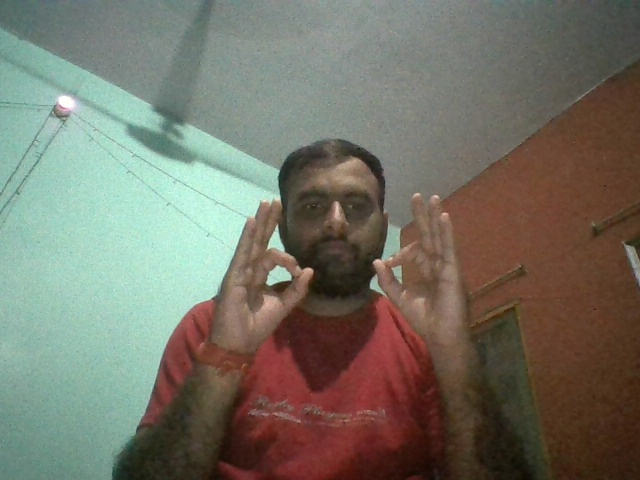family: (216, 192, 468, 349)
